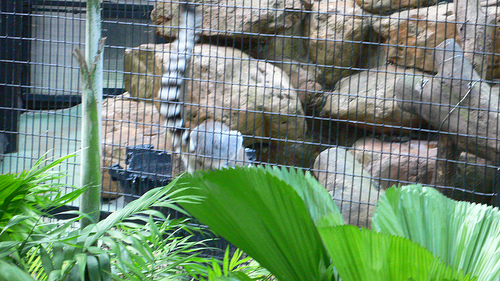cat: (163, 2, 255, 196)
